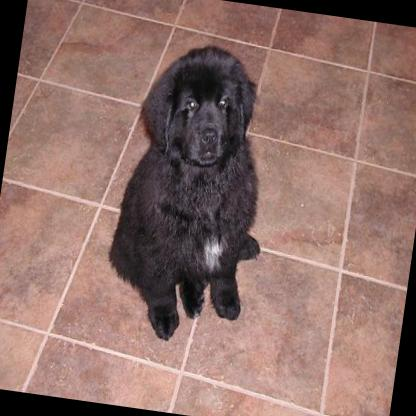Newfoundland: (98, 32, 288, 353)
